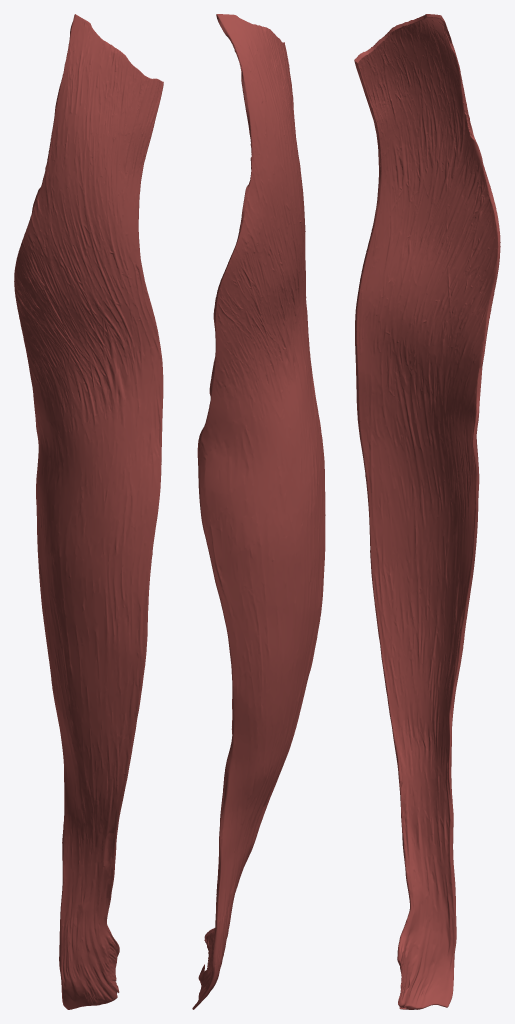
Rendered from FMA58776.glb.
3 renders of one model, left to right at view 1: azimuth 90°, elevation 25°; view 2: azimuth 150°, elevation 25°; view 3: azimuth 270°, elevation 25°, orthographic. The views are drawn at different scales.
Visible parts, largest first — view 1: FMA58776; view 2: FMA58776; view 3: FMA58776.
Boxes of the visible parts, x1,y1,x2,y2 form: FMA58776: (14, 14, 163, 1009); FMA58776: (192, 14, 325, 1009); FMA58776: (354, 14, 500, 1009).
Size of the model in its own units: 0.0691 by 0.586 by 0.079.
